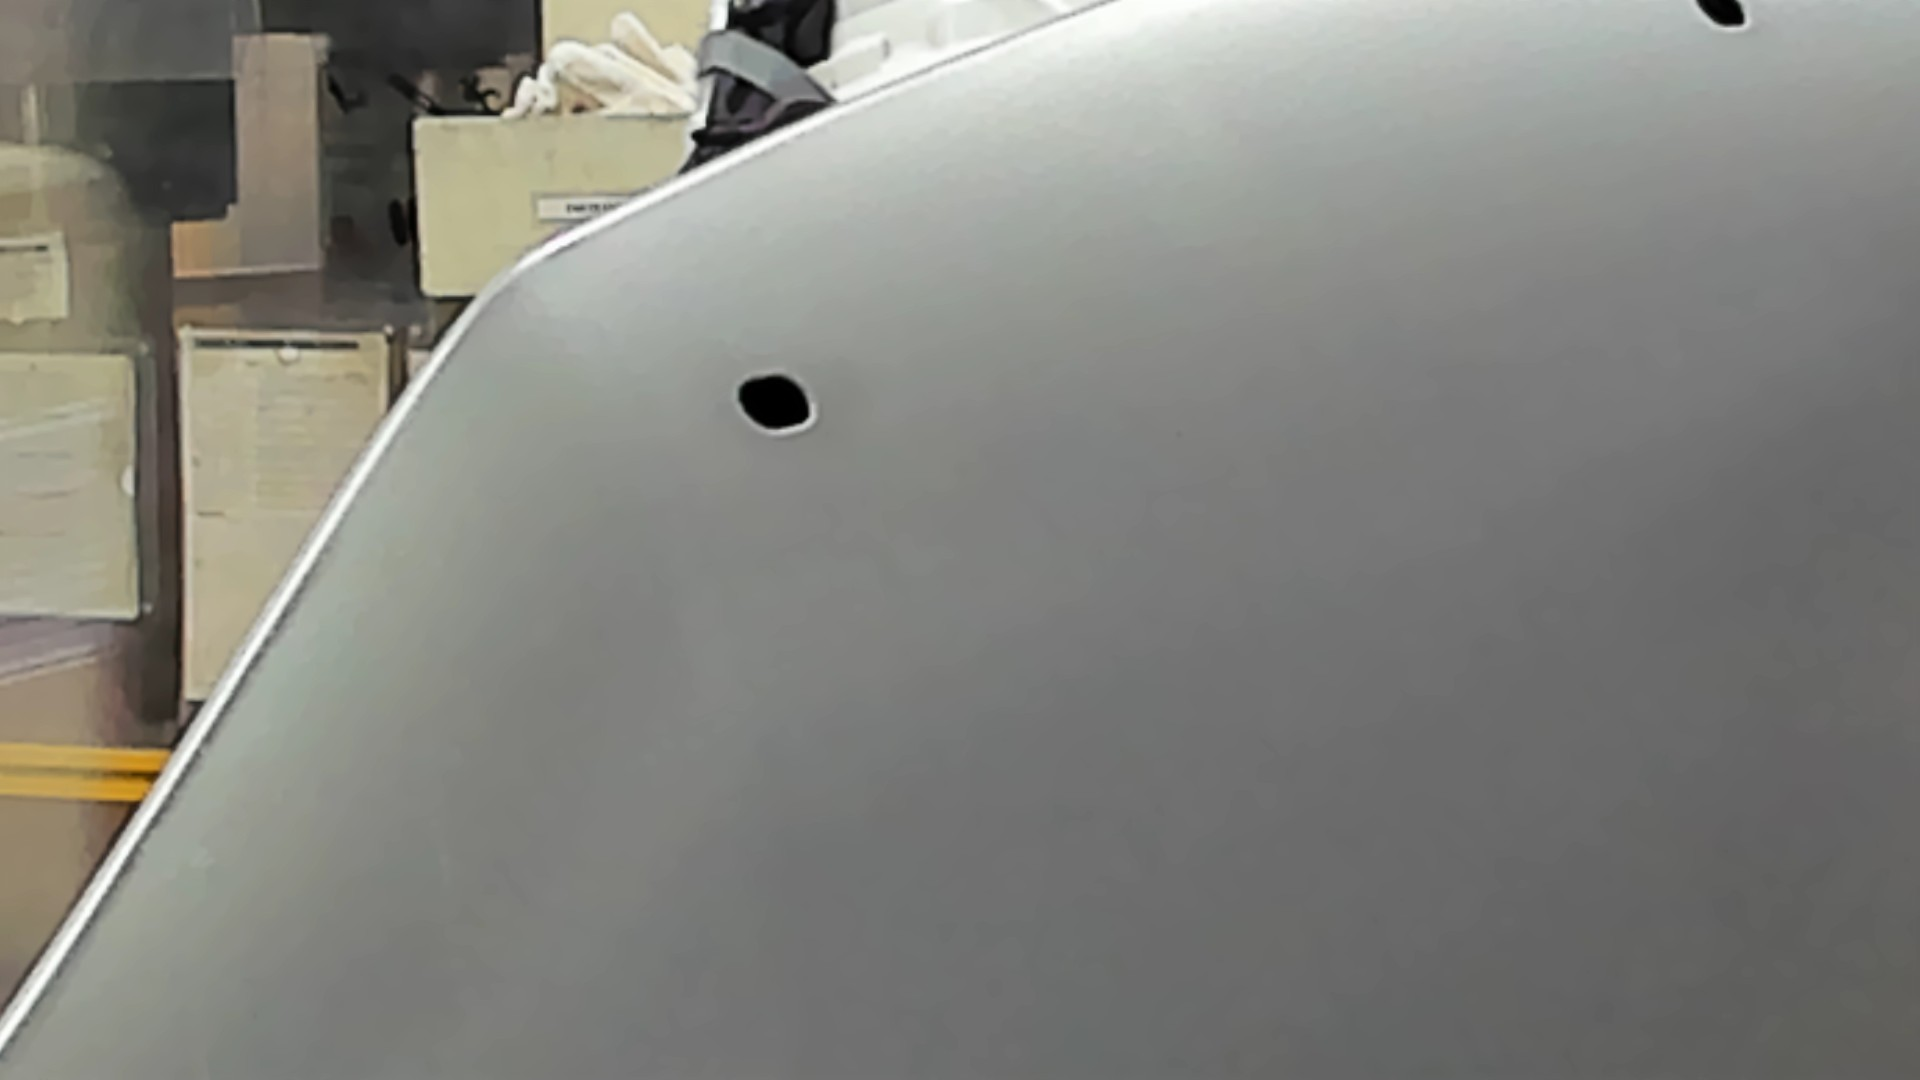amorfo: (723, 368, 829, 442), (1683, 1, 1759, 42)
